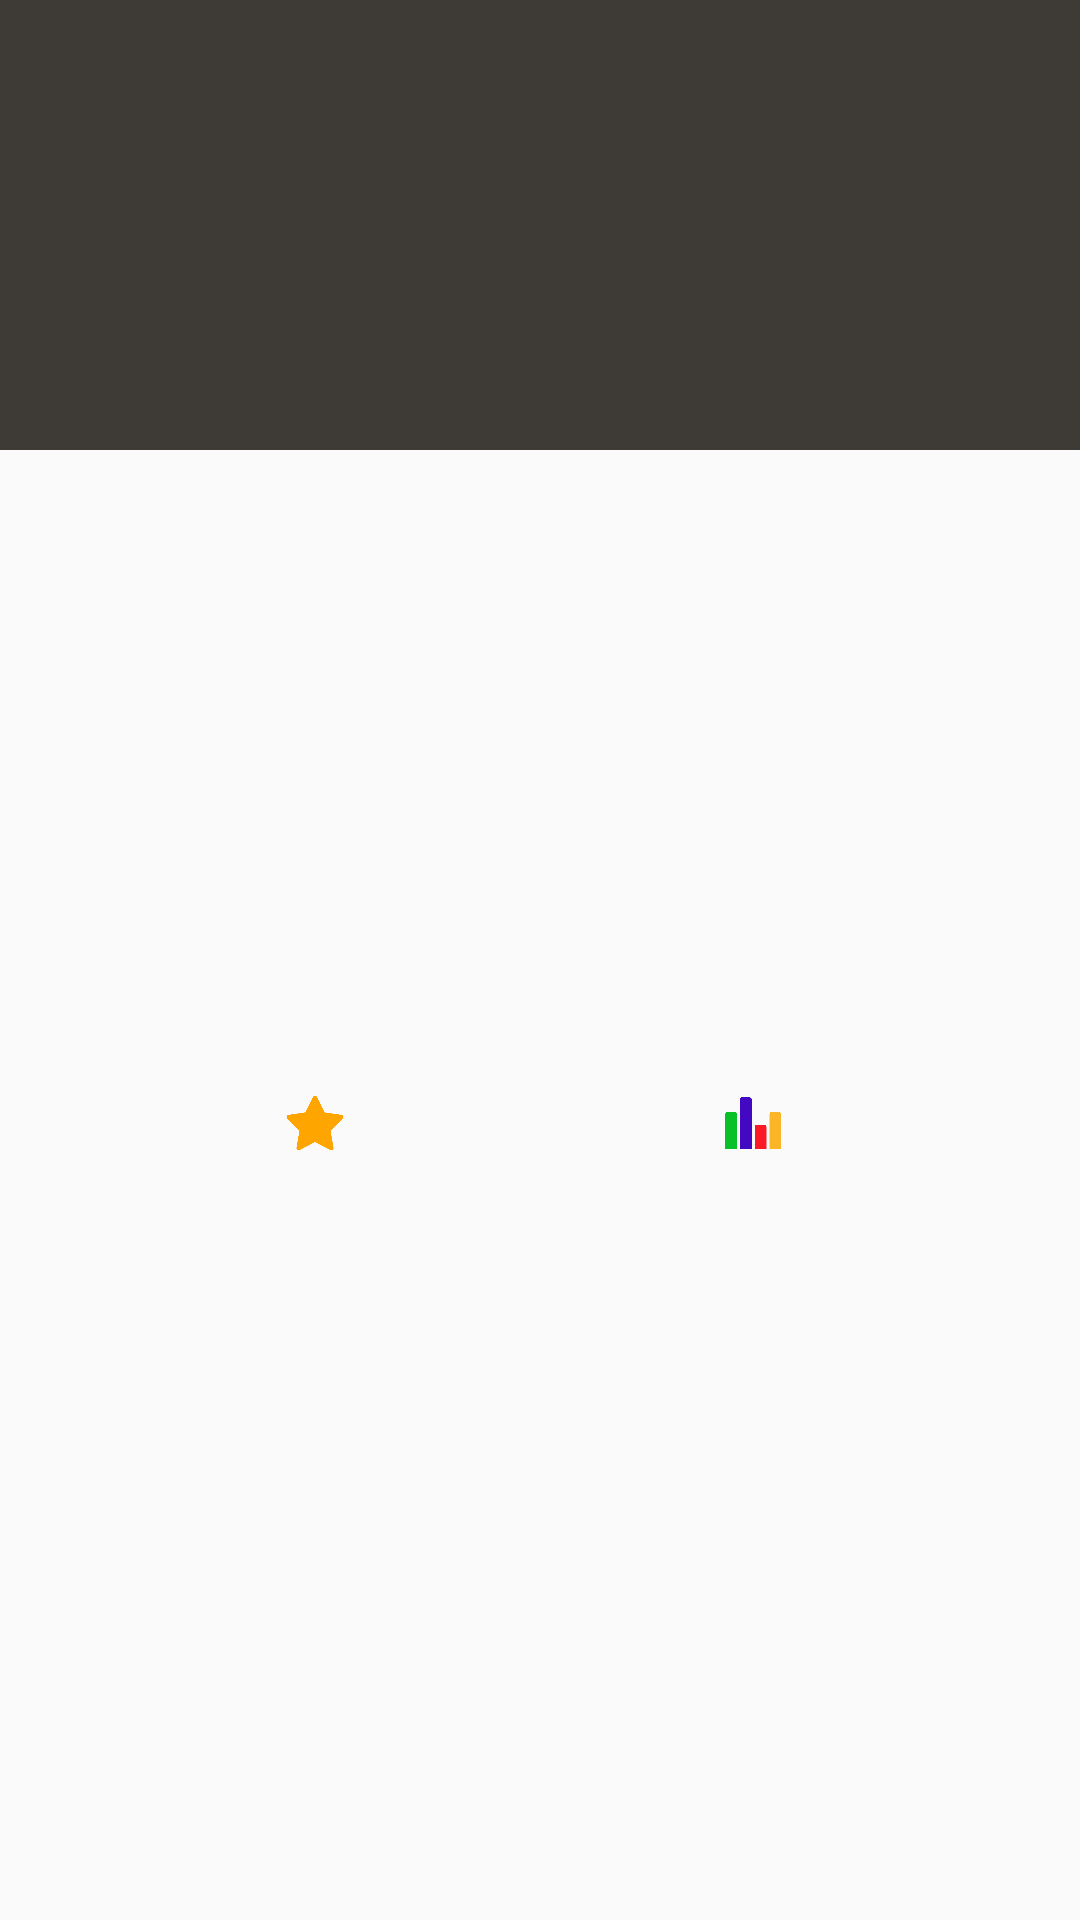

Icons on this 1080*1920 Android screen, each with the point to tap as (x,y):
count: (753,1123)
star: (315,1123)
